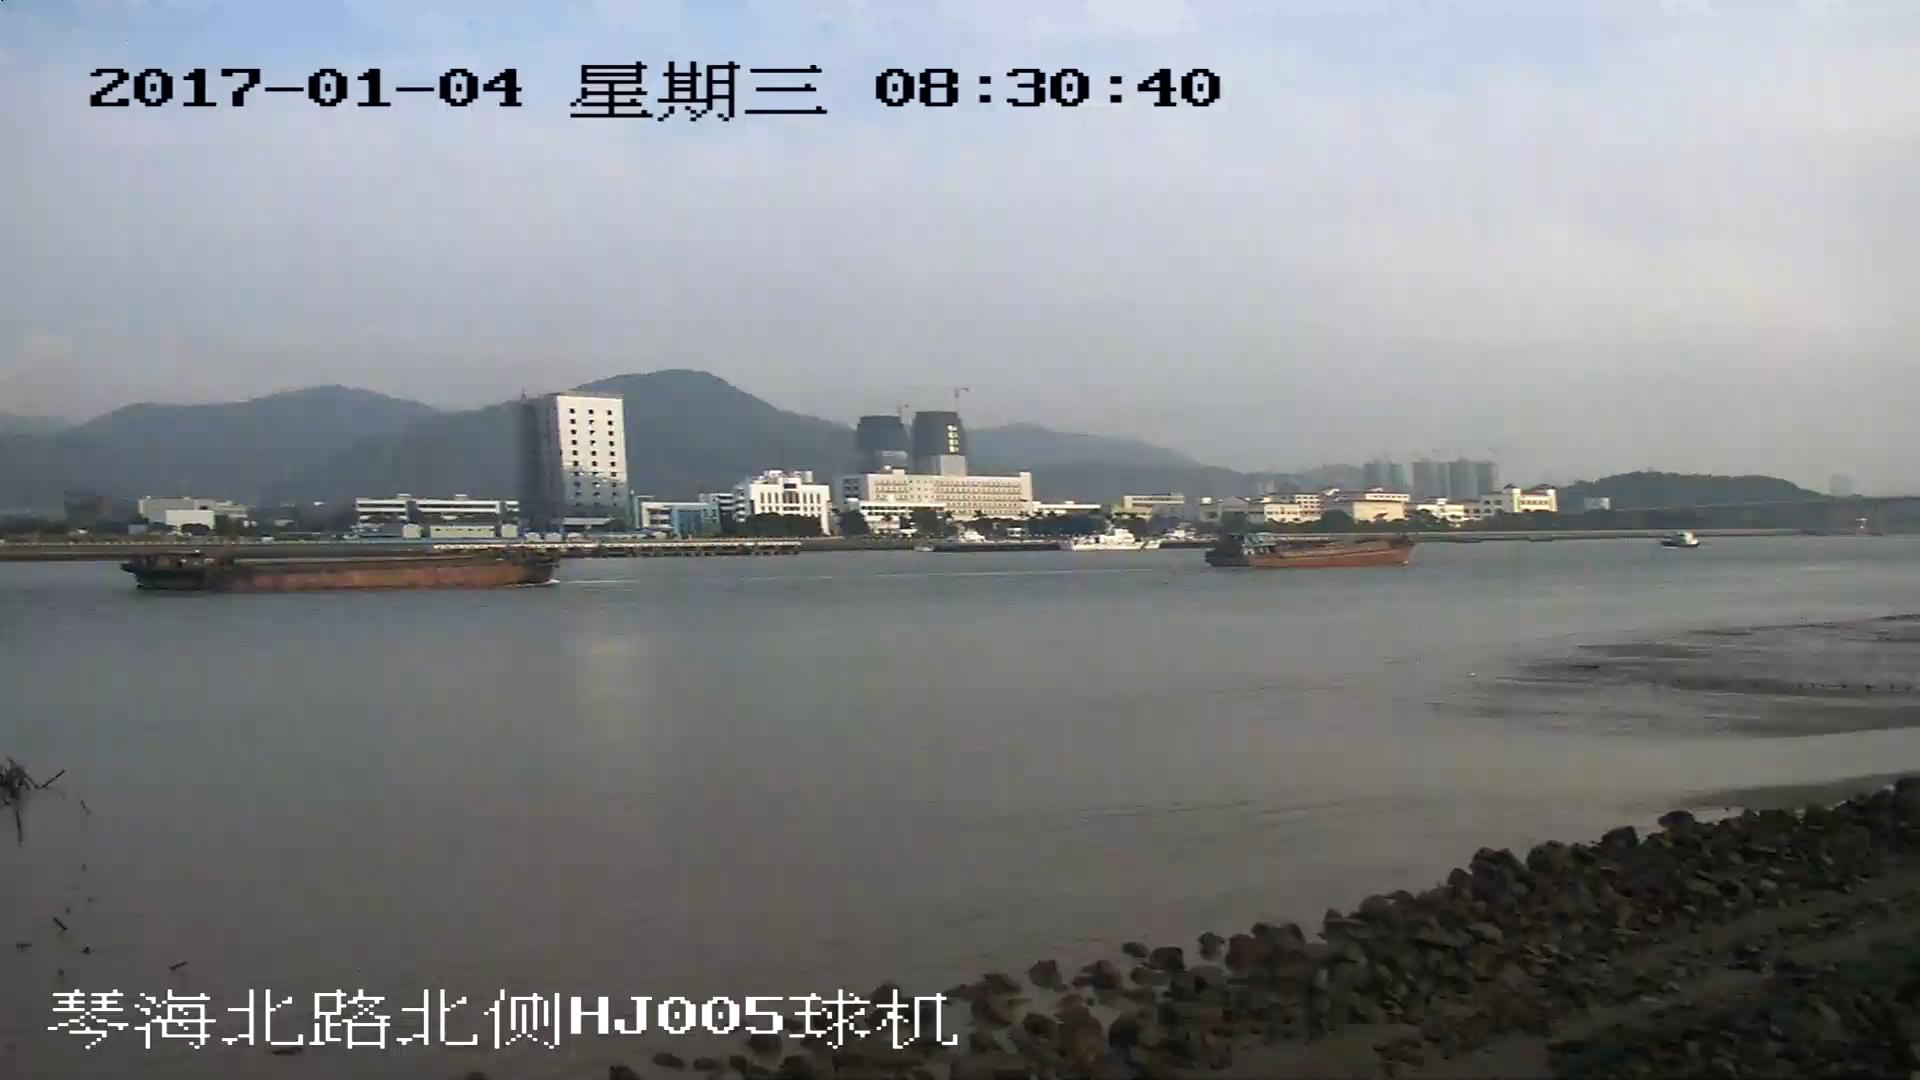bulk cargo carrier: (124, 540, 557, 588), (1206, 535, 1414, 570)
